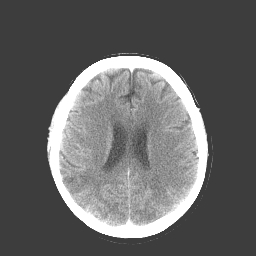ischemic: (141, 201, 156, 218)
